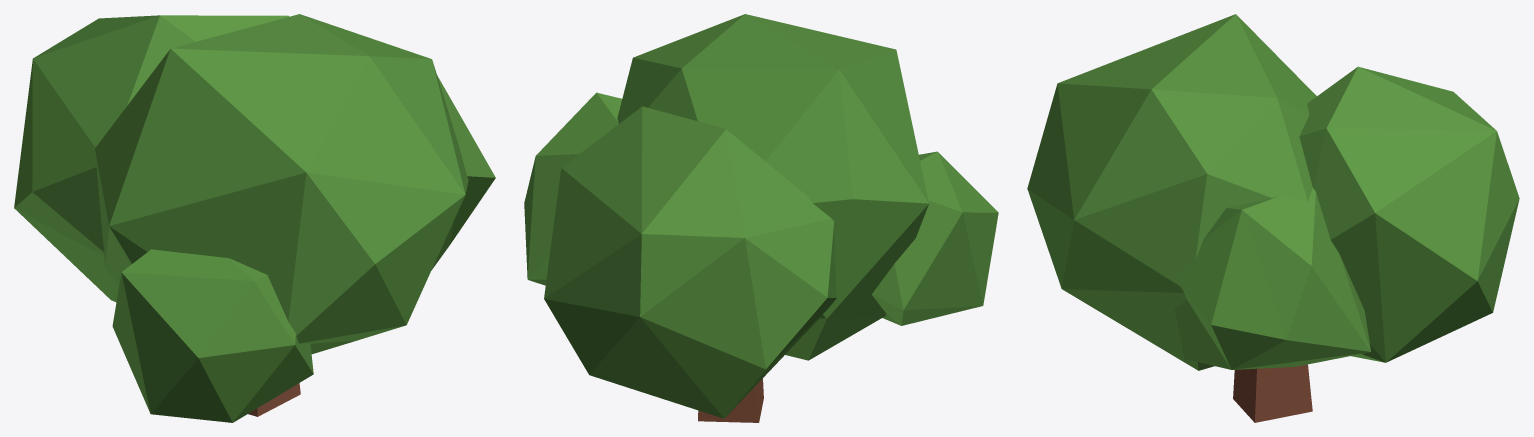
The model's file is Bush_6_summer_mat.fbx.
3 renders of one model, left to right at view 1: azimuth 30°, elevation 25°; view 2: azimuth 150°, elevation 25°; view 3: azimuth 270°, elevation 25°, orthographic. The views are drawn at different scales.
Parts seen in each view (by area): view 1: Bush_6_summer_mat; view 2: Bush_6_summer_mat; view 3: Bush_6_summer_mat.
Boxes of the visible parts, box(x1,y1,x2,y2) form: Bush_6_summer_mat: box(14, 14, 495, 422); Bush_6_summer_mat: box(524, 14, 998, 422); Bush_6_summer_mat: box(1027, 14, 1519, 422).
Bounding box in the file's own units: 30.85 × 27.54 × 35.35.
